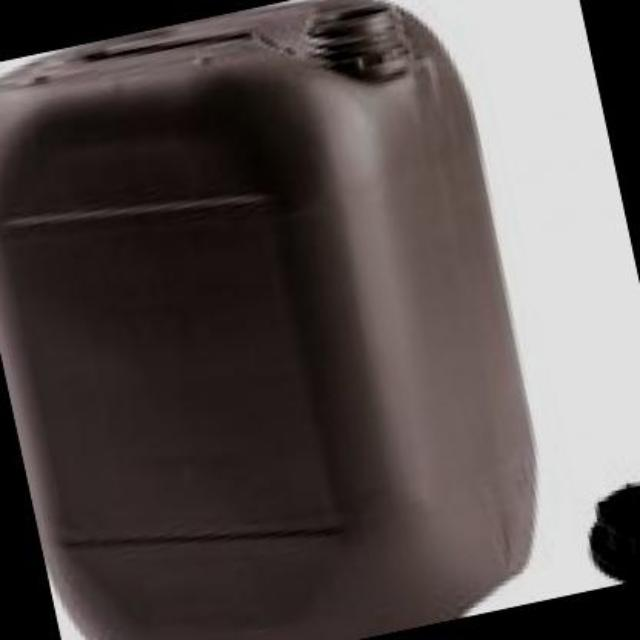chemical_plastic_gallon: (0, 0, 576, 638)
